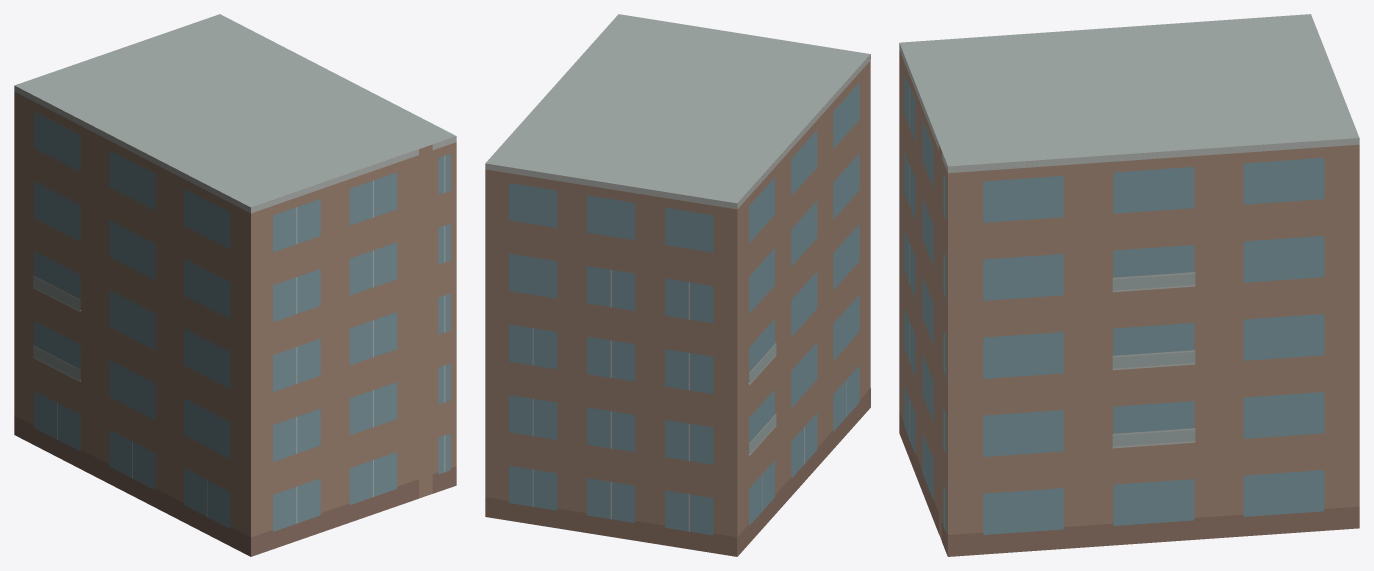
File: survey-upis-32733634.glb
3 renders of one model, left to right at view 1: azimuth 30°, elevation 25°; view 2: azimuth 150°, elevation 25°; view 3: azimuth 270°, elevation 25°, orthographic. The views are drawn at different scales.
Visible parts, largest first — view 1: survey-upis-32733634.tmp; view 2: survey-upis-32733634.tmp; view 3: survey-upis-32733634.tmp.
Boxes of the visible parts, x1,y1,x2,y2 form: survey-upis-32733634.tmp: [14, 14, 456, 556]; survey-upis-32733634.tmp: [485, 14, 870, 556]; survey-upis-32733634.tmp: [899, 14, 1359, 556].
Size of the model in its own units: 12 by 14.3 by 15.29.
